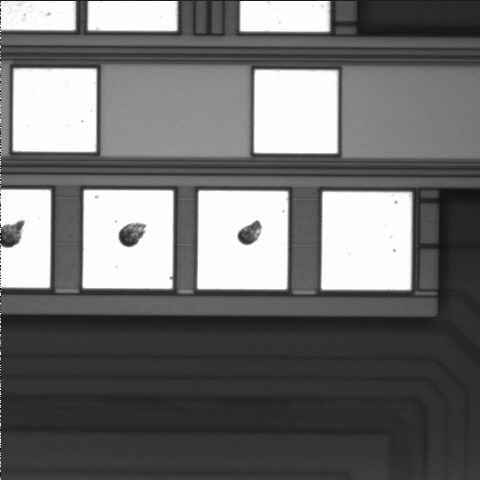pad: (197, 191, 288, 289), (321, 192, 412, 290), (83, 190, 173, 289), (254, 70, 338, 153), (13, 69, 96, 152)
